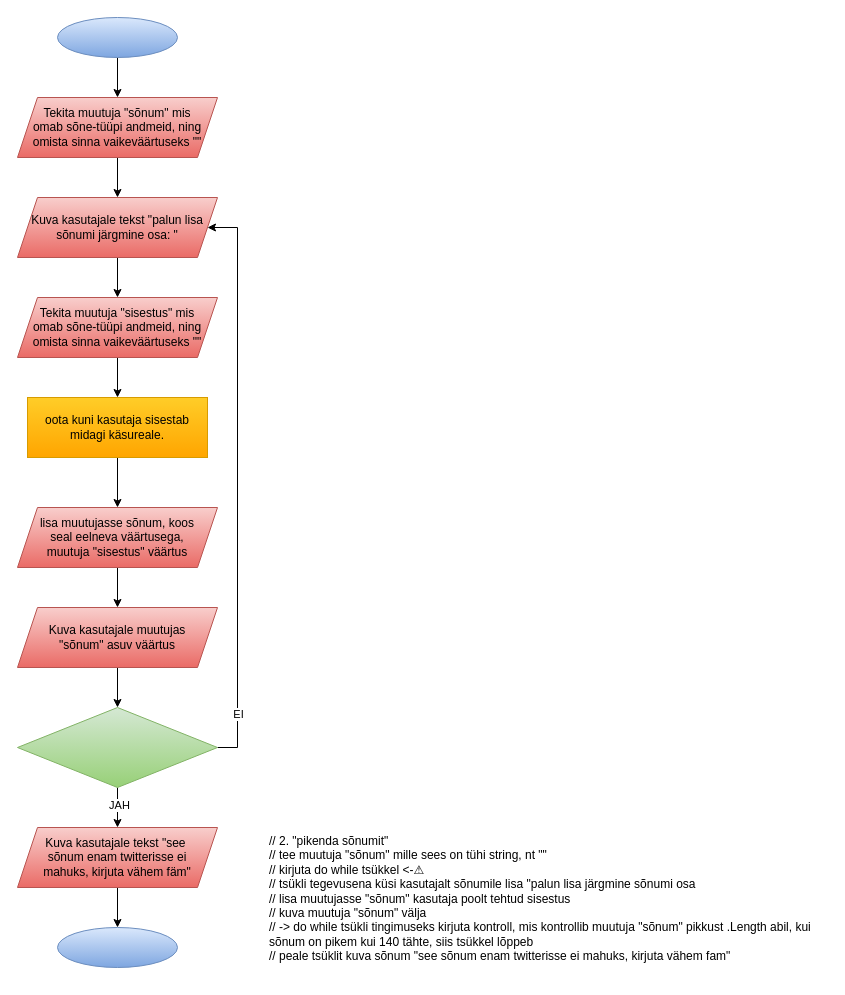
This 845x995 diagram has some shape labels left out. The shapes that lost their labels are listed below. From the top down, each one's box as (x1, y1, x2, y2) in pixels, then its label:
(56, 16, 178, 58): Algus
(16, 706, 218, 788): Kas muutujas "sõnum" asuv väärtus on pikem kui 140 tähemärki?
(56, 926, 178, 968): Lõpp
